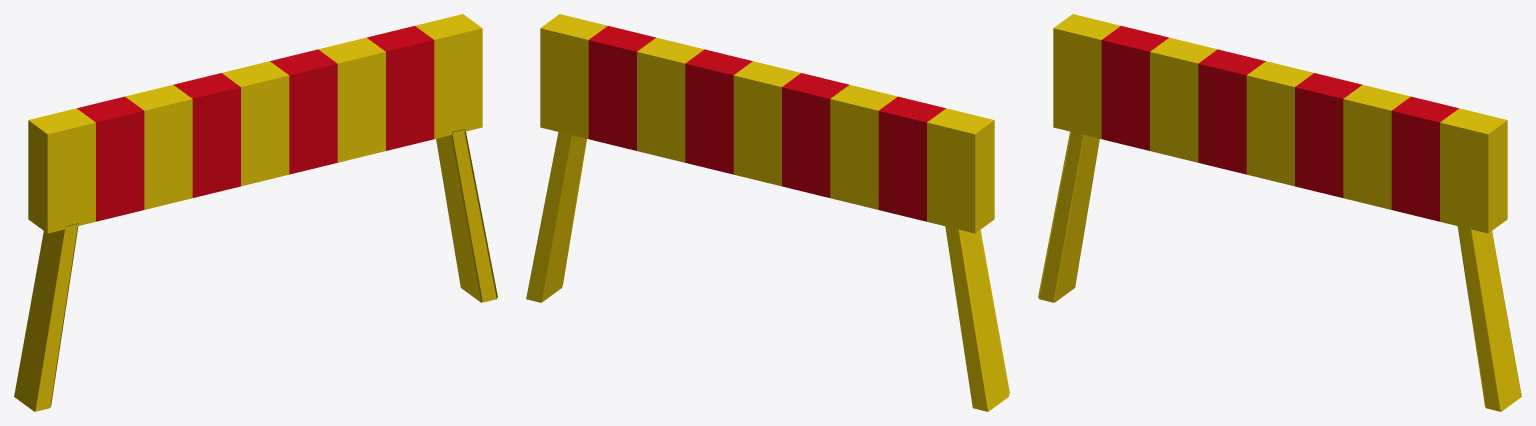
The model's file is przeszkodaGora.fbx.
The picture shows the model from 3 angles, left to right: view 1: azimuth 30°, elevation 25°; view 2: azimuth 150°, elevation 25°; view 3: azimuth 330°, elevation 25°; orthographic projection.
Visible parts, largest first — view 1: Cube; view 2: Cube; view 3: Cube.
Part boxes in pixels (x1,y1,x2,y2): Cube: (14, 14, 497, 411); Cube: (526, 14, 1009, 411); Cube: (1038, 14, 1521, 411).
Size of the model in its own units: 850 by 481 by 69.34.
